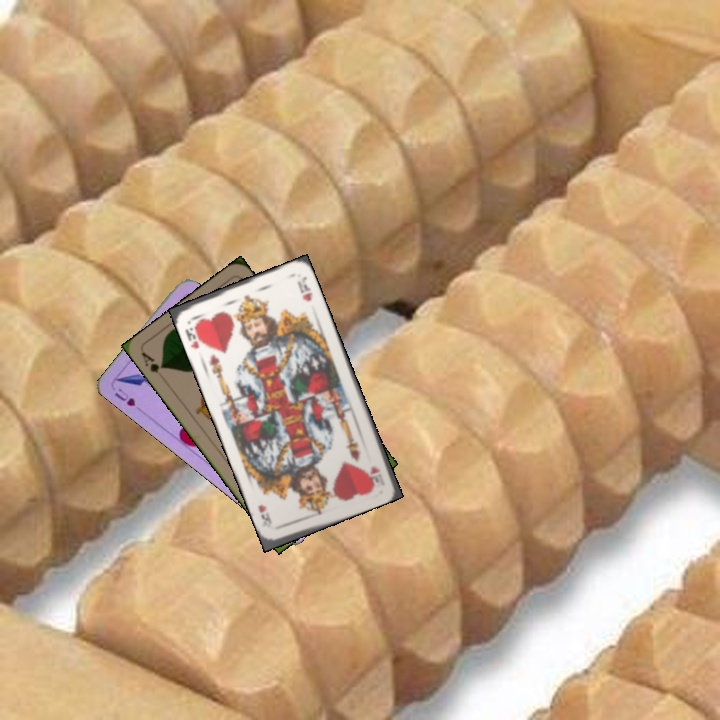GA: (137, 348, 168, 376)
HK: (181, 320, 208, 352), (366, 462, 387, 487)
HU: (110, 384, 138, 409)
